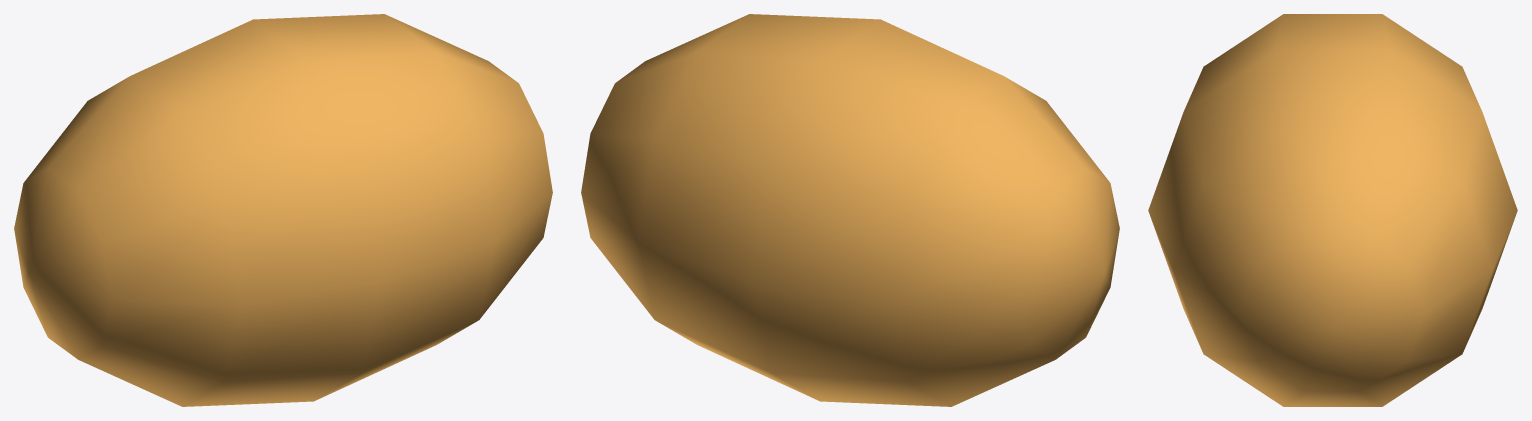
The model's file is Oval_03.fbx.
3 renders of one model, left to right at view 1: azimuth 30°, elevation 25°; view 2: azimuth 150°, elevation 25°; view 3: azimuth 270°, elevation 25°, orthographic. The views are drawn at different scales.
Visible parts, largest first — view 1: Oval_03; view 2: Oval_03; view 3: Oval_03.
Boxes of the visible parts, x1,y1,x2,y2 form: Oval_03: [14, 14, 552, 406]; Oval_03: [581, 14, 1119, 406]; Oval_03: [1148, 14, 1517, 406].
Bounding box in the file's own units: 408 × 259 × 272.
